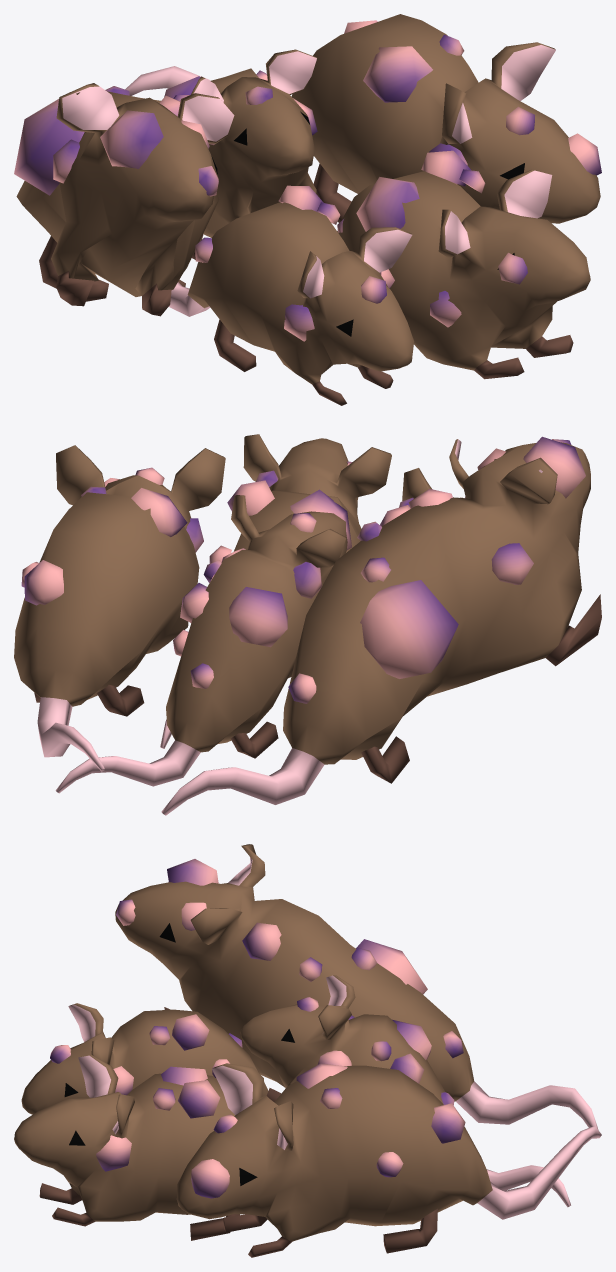
Rendered from swarm.fbx.
3 views of the same model, one above another, from view 1: azimuth 30°, elevation 25°; view 2: azimuth 150°, elevation 25°; view 3: azimuth 270°, elevation 25° (orthographic). The views are drawn at different scales.
Visible parts, largest first — view 1: Swarm, SwarmBoils; view 2: Swarm, SwarmBoils; view 3: Swarm, SwarmBoils.
Part boxes in pixels (x1,y1,x2,y2): Swarm: (16,14,600,405); SwarmBoils: (14,20,601,341); Swarm: (14,434,601,815); SwarmBoils: (21,436,585,703); Swarm: (14,844,601,1257); SwarmBoils: (50,859,465,1198).
Bounding box in the file's own units: 0.6402 × 0.363 × 0.7469.
